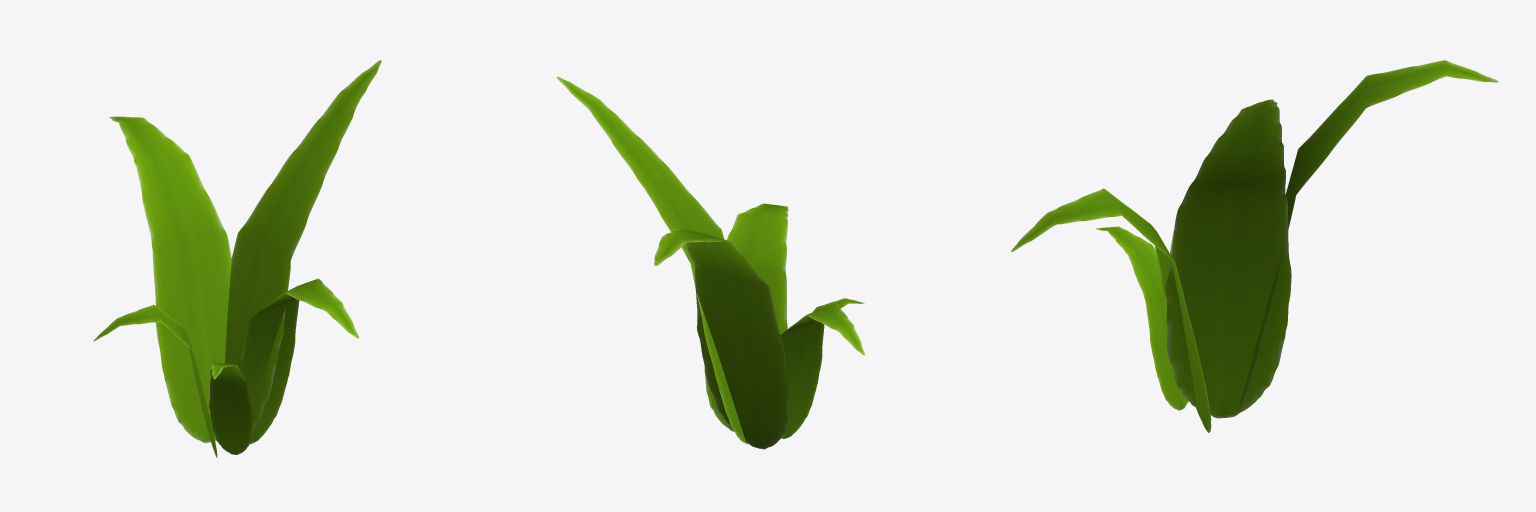
Rendered from plant_26.fbx.
The picture shows the model from 3 angles, left to right: view 1: azimuth 30°, elevation 25°; view 2: azimuth 150°, elevation 25°; view 3: azimuth 270°, elevation 25°; orthographic projection. The views are drawn at different scales.
Visible parts, largest first — view 1: plant_26; view 2: plant_26; view 3: plant_26.
Boxes of the visible parts, x1,y1,x2,y2 form: plant_26: [93, 60, 381, 457]; plant_26: [556, 76, 864, 449]; plant_26: [1011, 60, 1498, 432].
Size of the model in its own units: 228 by 213 by 240.
